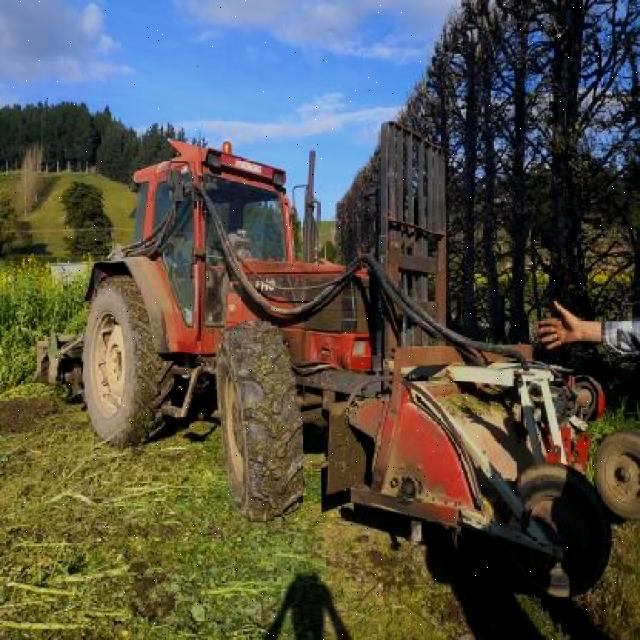Tratores - v5 YOLO V8L 2024-11-13: (24, 134, 370, 528)
